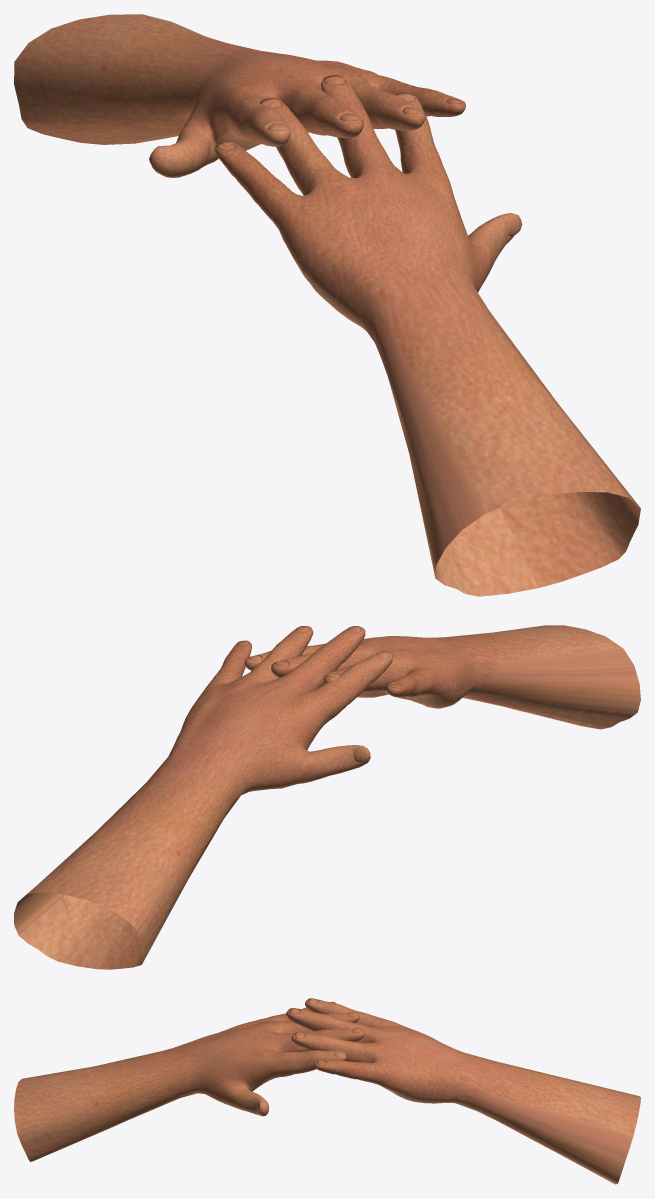
File: hands_000096.obj
3 renders of one model, top to bottom at view 1: azimuth 30°, elevation 25°; view 2: azimuth 150°, elevation 25°; view 3: azimuth 270°, elevation 25°, orthographic. The views are drawn at different scales.
Visible parts, largest first — view 1: hand.001_Mesh.001, hand_Mesh; view 2: hand_Mesh, hand.001_Mesh.001; view 3: hand_Mesh, hand.001_Mesh.001.
Boxes of the visible parts, <box> form: hand.001_Mesh.001: <box>215,75,640,596</box>; hand_Mesh: <box>14,14,465,177</box>; hand_Mesh: <box>14,626,393,969</box>; hand.001_Mesh.001: <box>244,625,640,729</box>; hand_Mesh: <box>286,998,640,1184</box>; hand.001_Mesh.001: <box>14,1001,364,1161</box>.
Size of the model in its own units: 1.71 by 1.48 by 5.4.
Materials: 1 (1 with a texture image).
